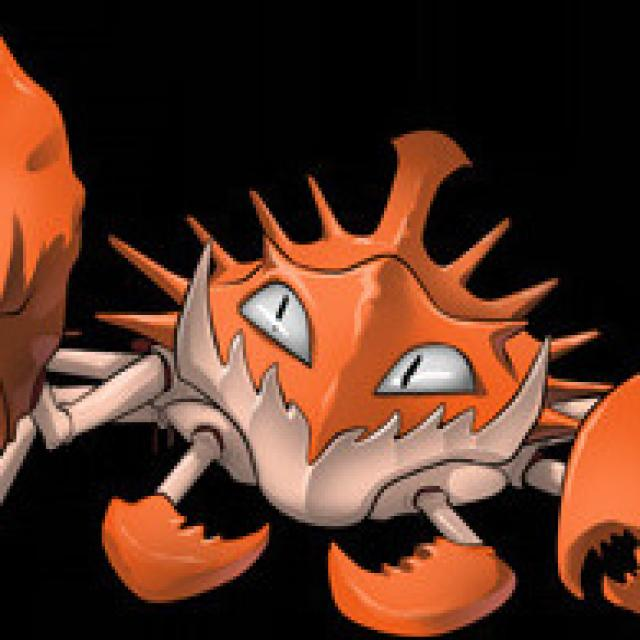Kingler: (24, 190, 640, 617)
